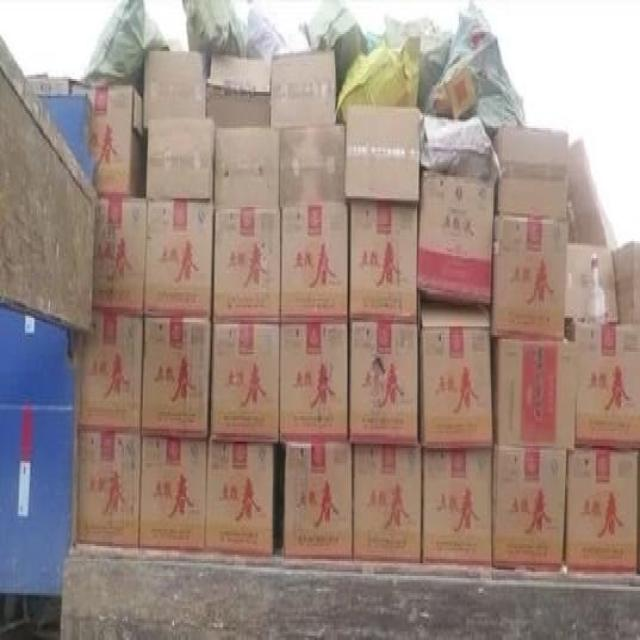box: (418, 301, 495, 452), (417, 169, 497, 309), (564, 444, 640, 572), (493, 339, 578, 452), (492, 444, 567, 572), (491, 213, 567, 339), (570, 320, 640, 452), (348, 322, 421, 446), (204, 439, 280, 555), (142, 314, 212, 439), (352, 444, 423, 565), (280, 442, 353, 559), (422, 446, 493, 565), (144, 196, 213, 318), (210, 322, 280, 442), (348, 203, 418, 322), (280, 322, 349, 442), (280, 203, 349, 322), (212, 207, 281, 322), (79, 309, 144, 431), (76, 429, 142, 548), (139, 435, 207, 550), (74, 83, 144, 194), (346, 105, 422, 205), (497, 130, 568, 220), (92, 192, 145, 311), (145, 119, 217, 201), (280, 124, 346, 207), (269, 51, 338, 128), (213, 128, 280, 207), (143, 51, 209, 130), (568, 139, 617, 245), (206, 55, 272, 128), (565, 245, 620, 324), (613, 241, 640, 324)
